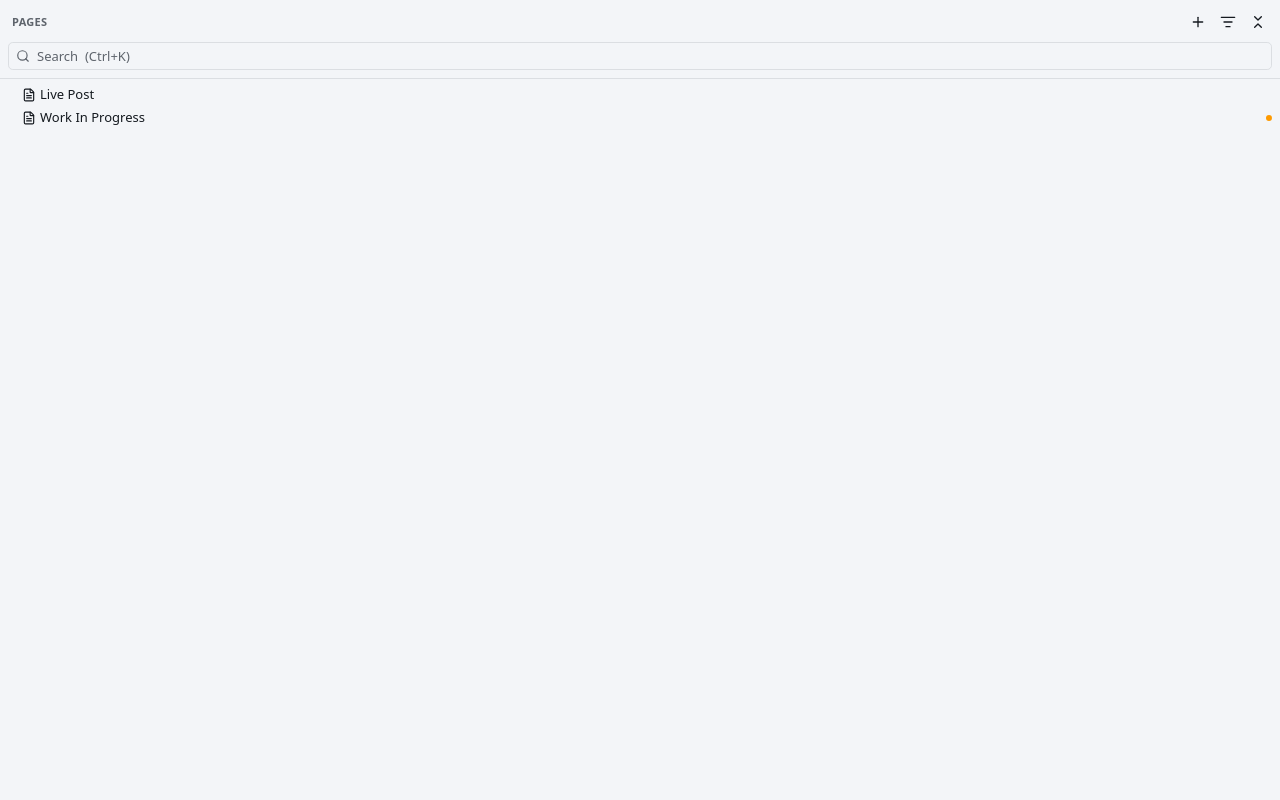
it: Sidebar new page › opens the new page dialog from the plus button
Click the button named "New page" at (1198, 22), box [1184,8,1212,36]
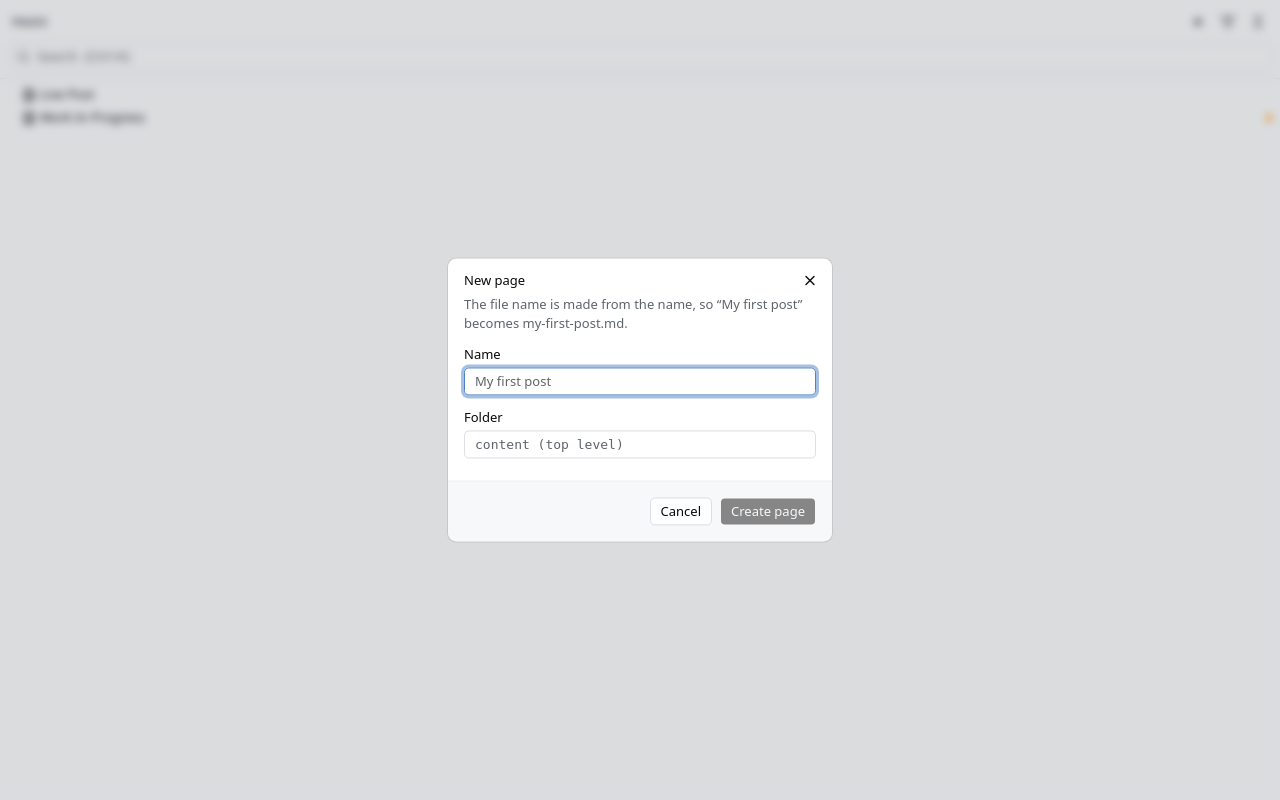
Expected: the field labelled "Name" is shown, [464,368,816,396]
